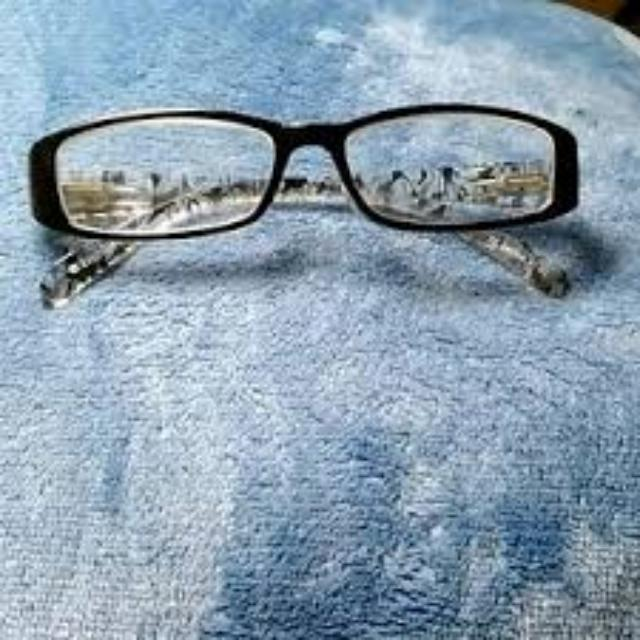glasses: (29, 102, 582, 312)
